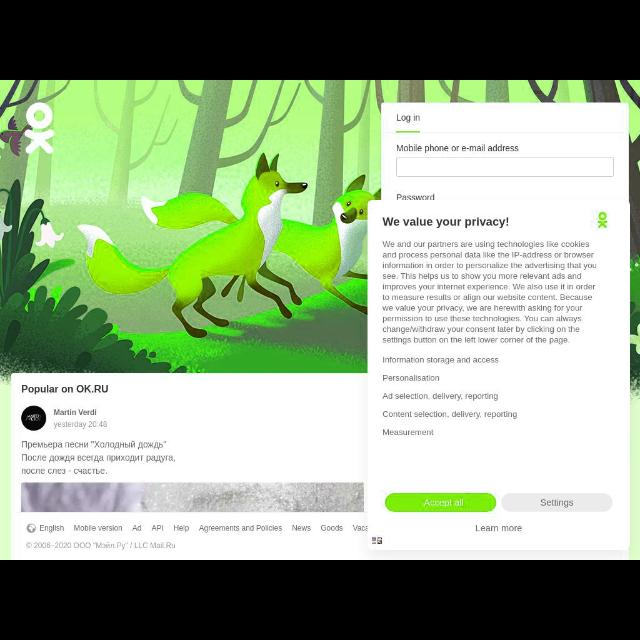backgroundimage: (1, 81, 638, 558)
icon: (595, 211, 611, 229), (28, 522, 36, 532)
image: (22, 403, 48, 432)
input: (396, 158, 614, 176)
panel: (368, 198, 632, 552), (382, 102, 630, 200)
text: (380, 240, 598, 346), (22, 440, 176, 476), (40, 522, 372, 532), (382, 212, 511, 230), (396, 138, 522, 154), (381, 354, 502, 370), (26, 539, 178, 549), (380, 390, 500, 402), (380, 409, 518, 419), (52, 407, 108, 429), (22, 382, 108, 394), (380, 372, 442, 383), (378, 427, 436, 437), (471, 526, 525, 534), (423, 498, 467, 507), (394, 110, 426, 122), (397, 191, 435, 201), (538, 496, 576, 506)
textbutton: (502, 493, 614, 512), (386, 494, 496, 511)
